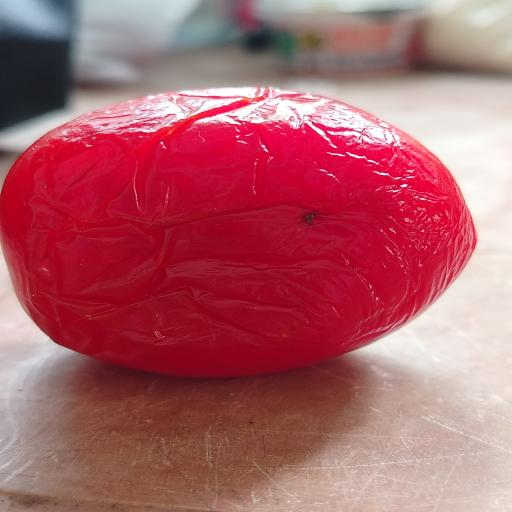spoiled: (0, 88, 475, 376)
